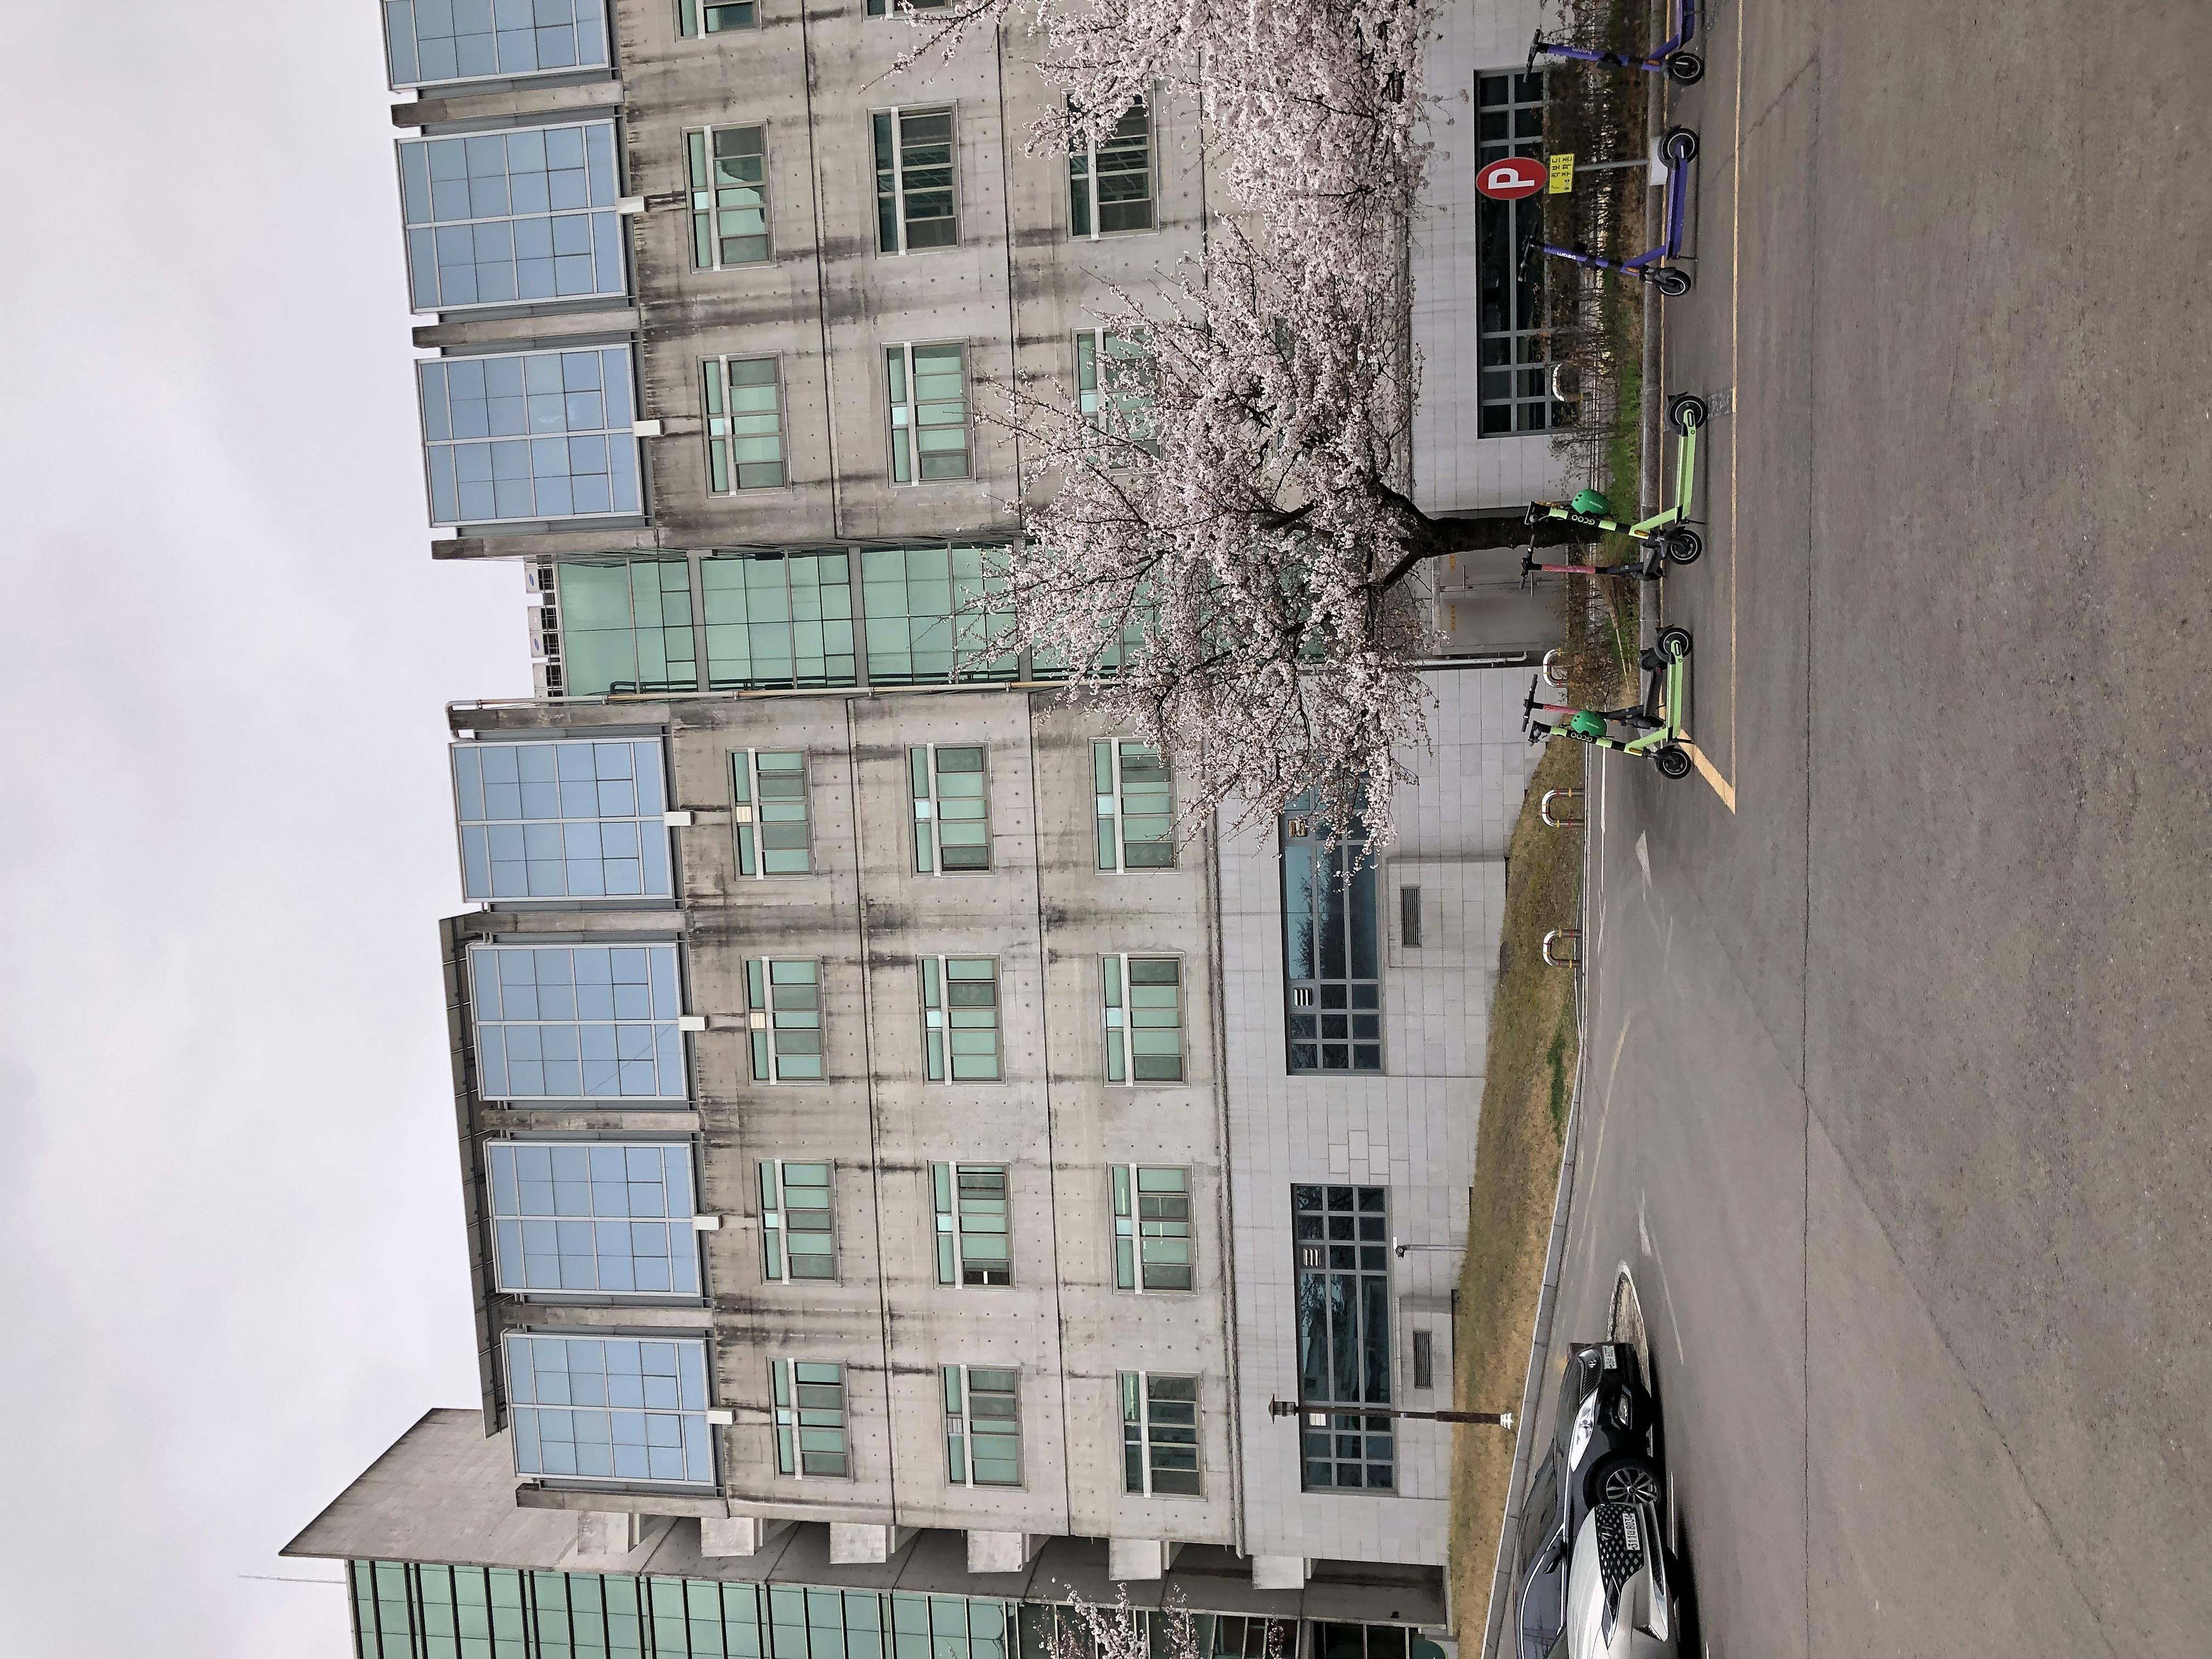building: (17, 185, 2212, 1206)
